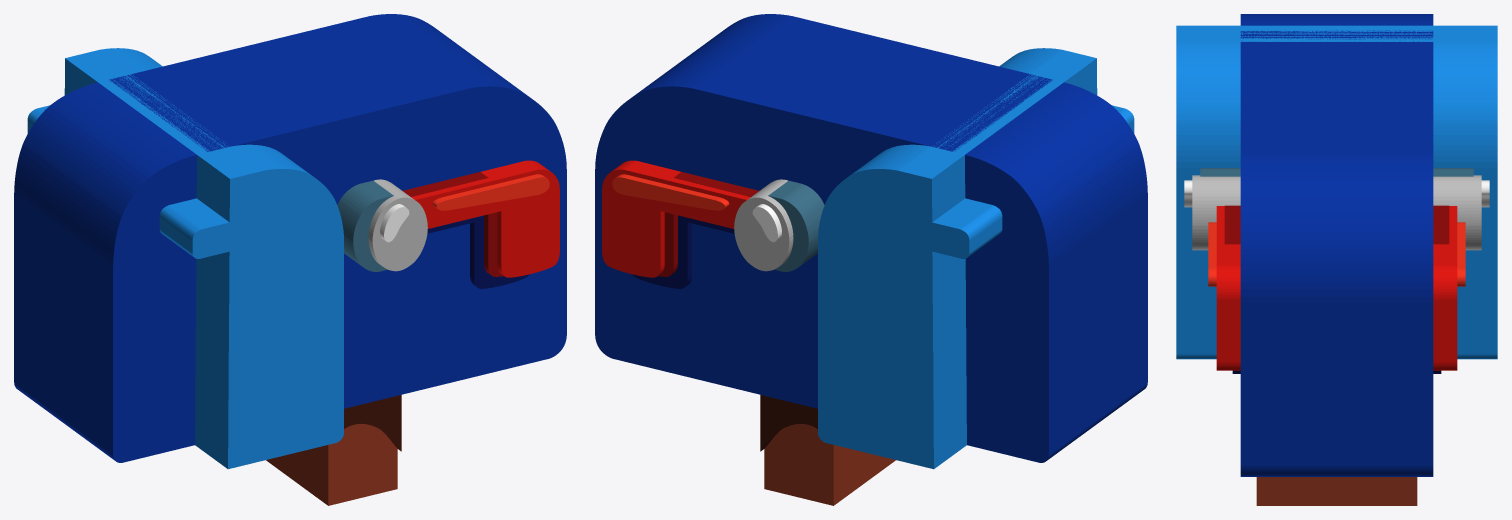
3 views of the same model, side by side, from view 1: azimuth 30°, elevation 25°; view 2: azimuth 150°, elevation 25°; view 3: azimuth 270°, elevation 25° (orthographic). The views are drawn at different scales.
Visible parts, largest first — view 1: U+1F4EA_layer02_obj00, U+1F4EA_layer02_obj01, U+1F4EA_layer10_obj00, U+1F4EA_layer05_obj00, U+1F4EA_layer00_obj00, U+1F4EA_layer10_obj01, U+1F4EA_layer08_obj00, U+1F4EA_layer07_obj00, U+1F4EA_layer06_obj00, U+1F4EA_layer01_obj00, U+1F4EA_layer03_obj01, U+1F4EA_layer04_obj00 (+1 smaller); view 2: U+1F4EA_layer02_obj00, U+1F4EA_layer02_obj01, U+1F4EA_layer10_obj00, U+1F4EA_layer05_obj00, U+1F4EA_layer00_obj00, U+1F4EA_layer10_obj01, U+1F4EA_layer08_obj00, U+1F4EA_layer07_obj00, U+1F4EA_layer06_obj00, U+1F4EA_layer01_obj00, U+1F4EA_layer03_obj01, U+1F4EA_layer04_obj00 (+1 smaller); view 3: U+1F4EA_layer02_obj00, U+1F4EA_layer10_obj00, U+1F4EA_layer05_obj00, U+1F4EA_layer08_obj00, U+1F4EA_layer00_obj00, U+1F4EA_layer02_obj01, U+1F4EA_layer04_obj00, U+1F4EA_layer06_obj00, U+1F4EA_layer07_obj00, U+1F4EA_layer09_obj00.
Part boxes in pixels (bbox=[...]): U+1F4EA_layer02_obj00: bbox=[109, 14, 566, 408]; U+1F4EA_layer02_obj01: bbox=[14, 82, 196, 462]; U+1F4EA_layer10_obj00: bbox=[64, 48, 343, 469]; U+1F4EA_layer05_obj00: bbox=[411, 160, 559, 277]; U+1F4EA_layer00_obj00: bbox=[266, 423, 397, 505]; U+1F4EA_layer10_obj01: bbox=[27, 105, 261, 258]; U+1F4EA_layer08_obj00: bbox=[368, 179, 427, 271]; U+1F4EA_layer07_obj00: bbox=[337, 180, 393, 271]; U+1F4EA_layer06_obj00: bbox=[432, 174, 549, 210]; U+1F4EA_layer01_obj00: bbox=[344, 395, 401, 451]; U+1F4EA_layer03_obj01: bbox=[427, 215, 529, 288]; U+1F4EA_layer04_obj00: bbox=[403, 172, 503, 276]; U+1F4EA_layer02_obj00: bbox=[595, 14, 1052, 408]; U+1F4EA_layer02_obj01: bbox=[965, 82, 1147, 462]; U+1F4EA_layer10_obj00: bbox=[818, 48, 1097, 469]; U+1F4EA_layer05_obj00: bbox=[602, 160, 750, 277]; U+1F4EA_layer00_obj00: bbox=[764, 423, 895, 505]; U+1F4EA_layer10_obj01: bbox=[900, 105, 1134, 258]; U+1F4EA_layer08_obj00: bbox=[734, 179, 793, 271]; U+1F4EA_layer07_obj00: bbox=[768, 180, 824, 271]; U+1F4EA_layer06_obj00: bbox=[612, 174, 729, 210]; U+1F4EA_layer01_obj00: bbox=[760, 395, 817, 451]; U+1F4EA_layer03_obj01: bbox=[632, 215, 734, 288]; U+1F4EA_layer04_obj00: bbox=[658, 172, 758, 276]; U+1F4EA_layer02_obj00: bbox=[1240, 30, 1433, 476]; U+1F4EA_layer10_obj00: bbox=[1176, 25, 1497, 359]; U+1F4EA_layer05_obj00: bbox=[1216, 206, 1457, 370]; U+1F4EA_layer08_obj00: bbox=[1192, 175, 1481, 250]; U+1F4EA_layer00_obj00: bbox=[1256, 477, 1417, 505]; U+1F4EA_layer02_obj01: bbox=[1240, 14, 1433, 25]; U+1F4EA_layer04_obj00: bbox=[1224, 205, 1449, 244]; U+1F4EA_layer06_obj00: bbox=[1208, 222, 1465, 286]; U+1F4EA_layer07_obj00: bbox=[1200, 168, 1473, 176]; U+1F4EA_layer09_obj00: bbox=[1184, 180, 1489, 207].
Bounding box in the file's own units: 0.3175 × 0.2617 × 0.2.
